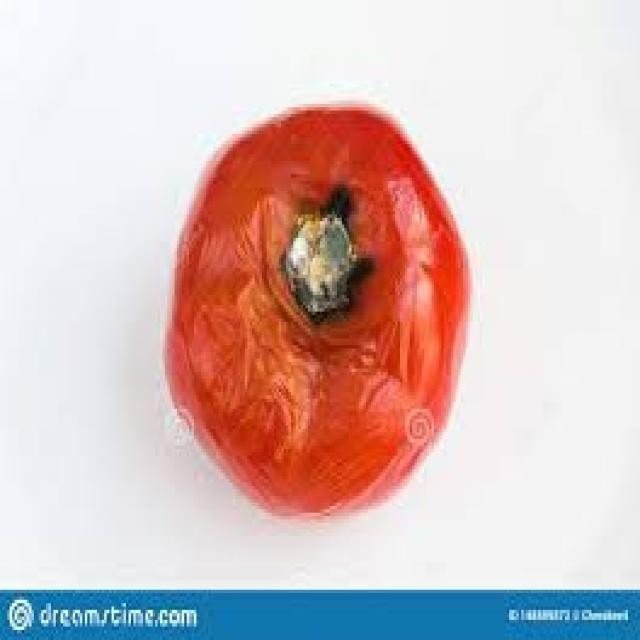organic waste: (162, 100, 468, 512)
